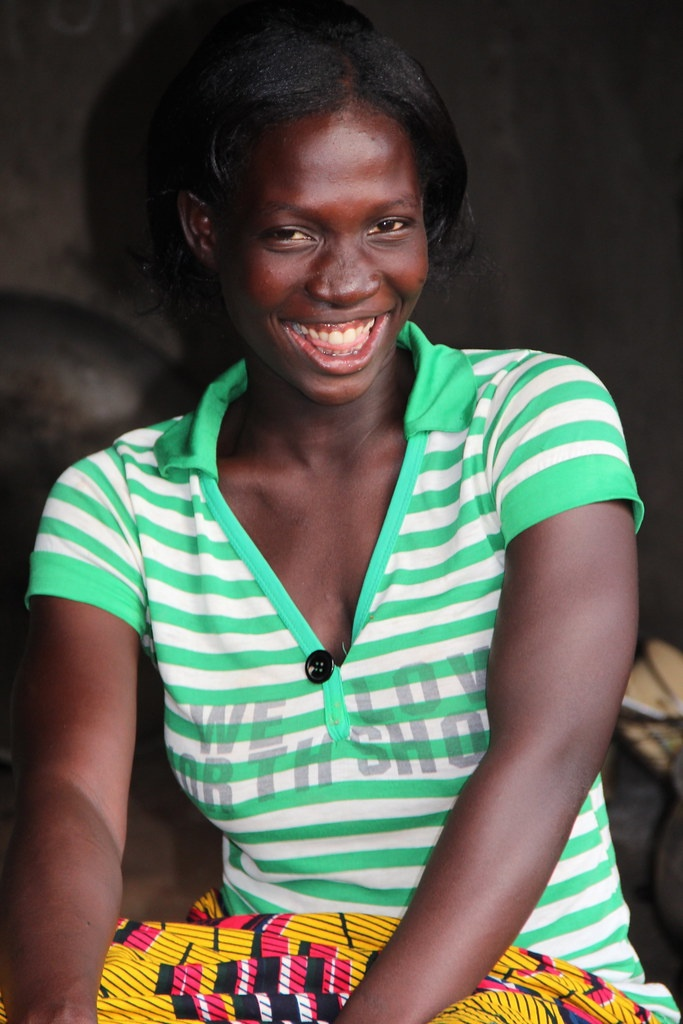without_mask: (199, 96, 471, 392)
